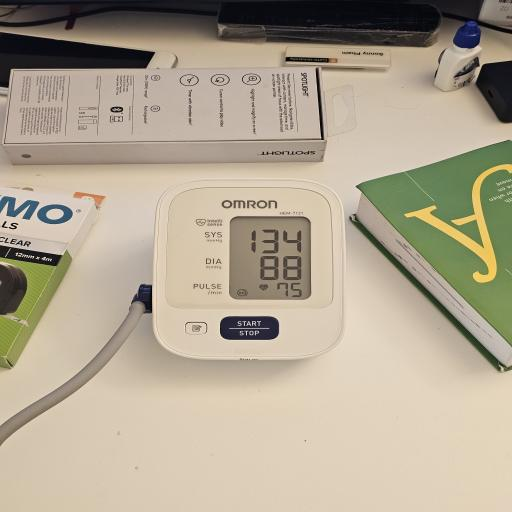blood pressure monitor: (152, 178, 348, 362)
